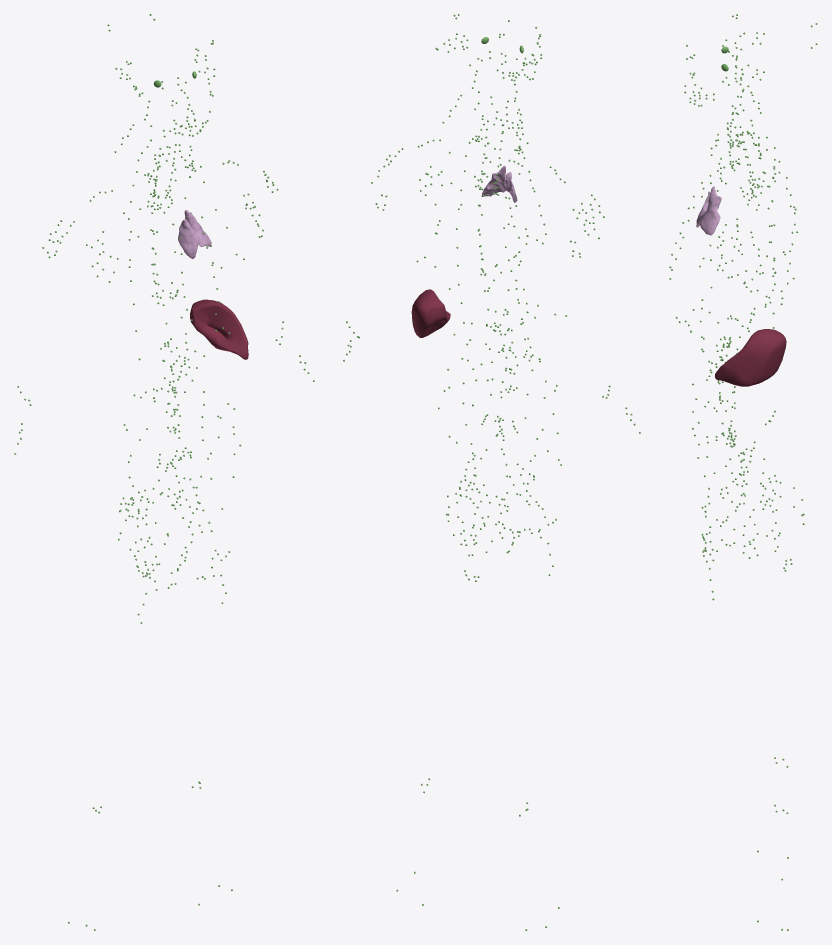
File: lymphoid.glb
The picture shows the model from 3 angles, left to right: view 1: azimuth 30°, elevation 25°; view 2: azimuth 150°, elevation 25°; view 3: azimuth 270°, elevation 25°; orthographic projection.
Parts seen in each view (by area): view 1: spleen; view 2: spleen; view 3: spleen, left-lobe-of-thymus.
Boxes of the visible parts, x1=… form: spleen: x1=190, y1=299, x2=248, y2=359; spleen: x1=411, y1=289, x2=450, y2=337; spleen: x1=715, y1=329, x2=786, y2=386; left-lobe-of-thymus: x1=699, y1=186, x2=721, y2=235.
Size of the model in its own units: 0.4523 by 1.28 by 0.1964.
